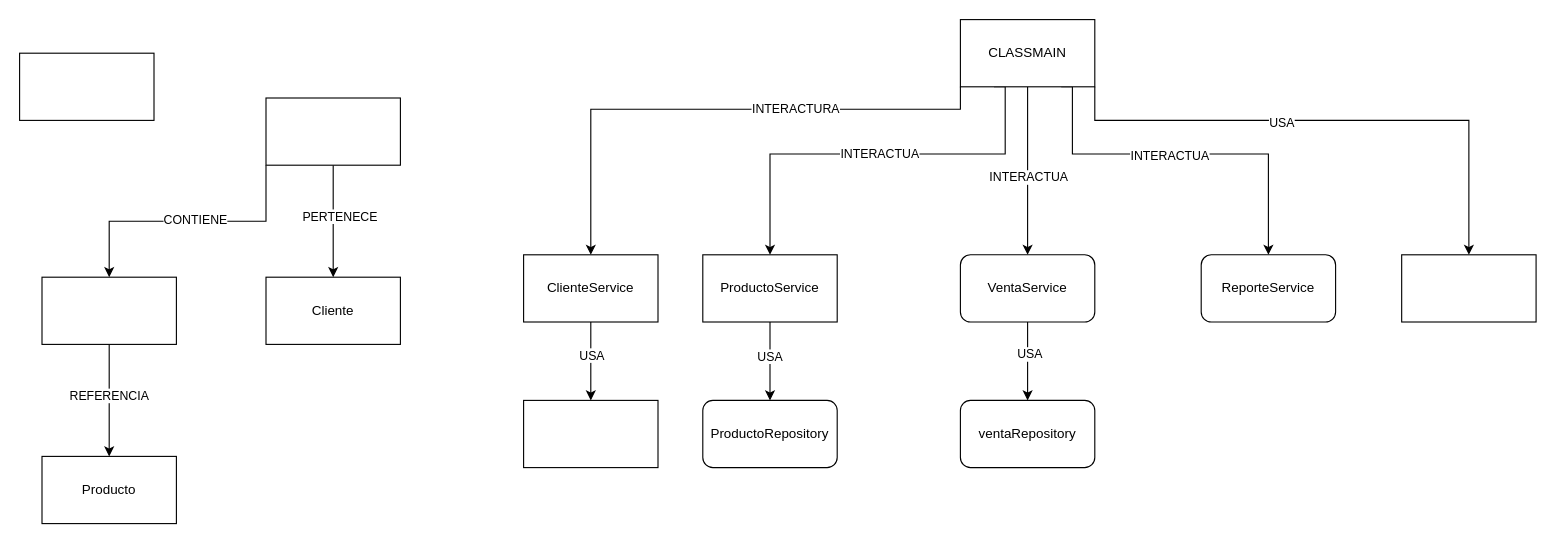
The diagram is 1556 pixels wide and 543 high, and some of its shapes have lost their labels. Here are the shapes that lost their labels. From the top down, the centre of each, then its label:
At [86,86]: "Validaciones".
At [332,131]: "Venta".
At [1468,288]: "Console".
At [108,310]: "VentaDetalle".
At [590,433]: "ClienteRepository".
